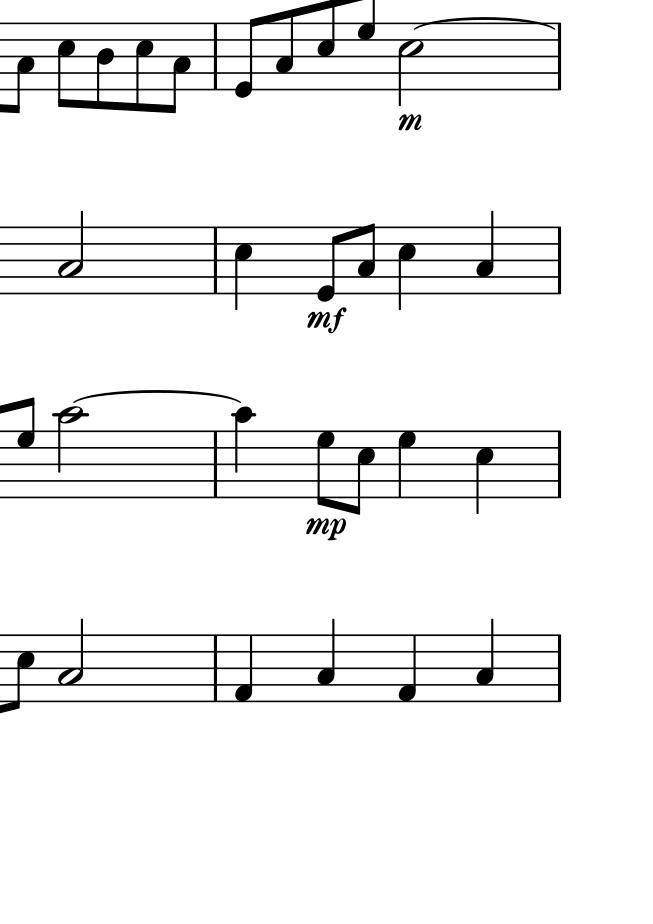2_10: (55, 405, 85, 500)
2_3: (58, 209, 86, 298), (58, 617, 84, 705)
2_5: (397, 22, 426, 110)
4_1: (397, 634, 419, 704), (234, 633, 255, 705)
4_10: (232, 406, 256, 500)
4_3: (474, 208, 497, 295), (476, 616, 497, 703), (317, 619, 338, 703)
4_5: (232, 225, 255, 312), (474, 429, 495, 517), (397, 225, 416, 309)
4_7: (395, 428, 417, 499)
8_0: (234, 16, 263, 98), (317, 224, 342, 304)
8_3: (7, 21, 33, 115), (167, 21, 192, 117), (274, 10, 297, 91), (357, 222, 378, 296)
8_4: (96, 22, 116, 114)
8_5: (349, 428, 377, 515), (10, 633, 35, 712), (133, 20, 152, 115), (57, 21, 77, 110)
8_7: (17, 396, 36, 501), (316, 428, 336, 508)
Single_barline: (543, 227, 568, 294), (204, 225, 227, 293), (204, 634, 227, 702), (547, 430, 569, 498), (205, 431, 226, 500), (547, 634, 567, 703)
Slur: (72, 390, 242, 405), (415, 15, 554, 31)
m: (396, 113, 424, 138)
mf: (306, 308, 347, 338)
mp: (305, 517, 345, 543)
